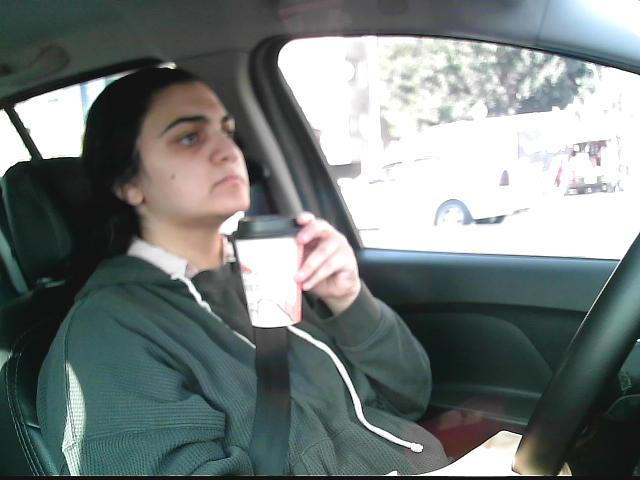Drinking: (228, 208, 306, 329)
